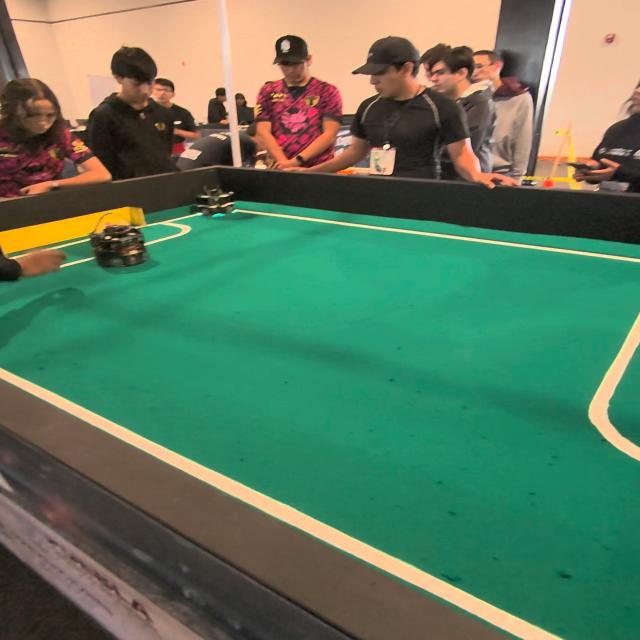Robot: (88, 204, 150, 266), (192, 170, 238, 222)
